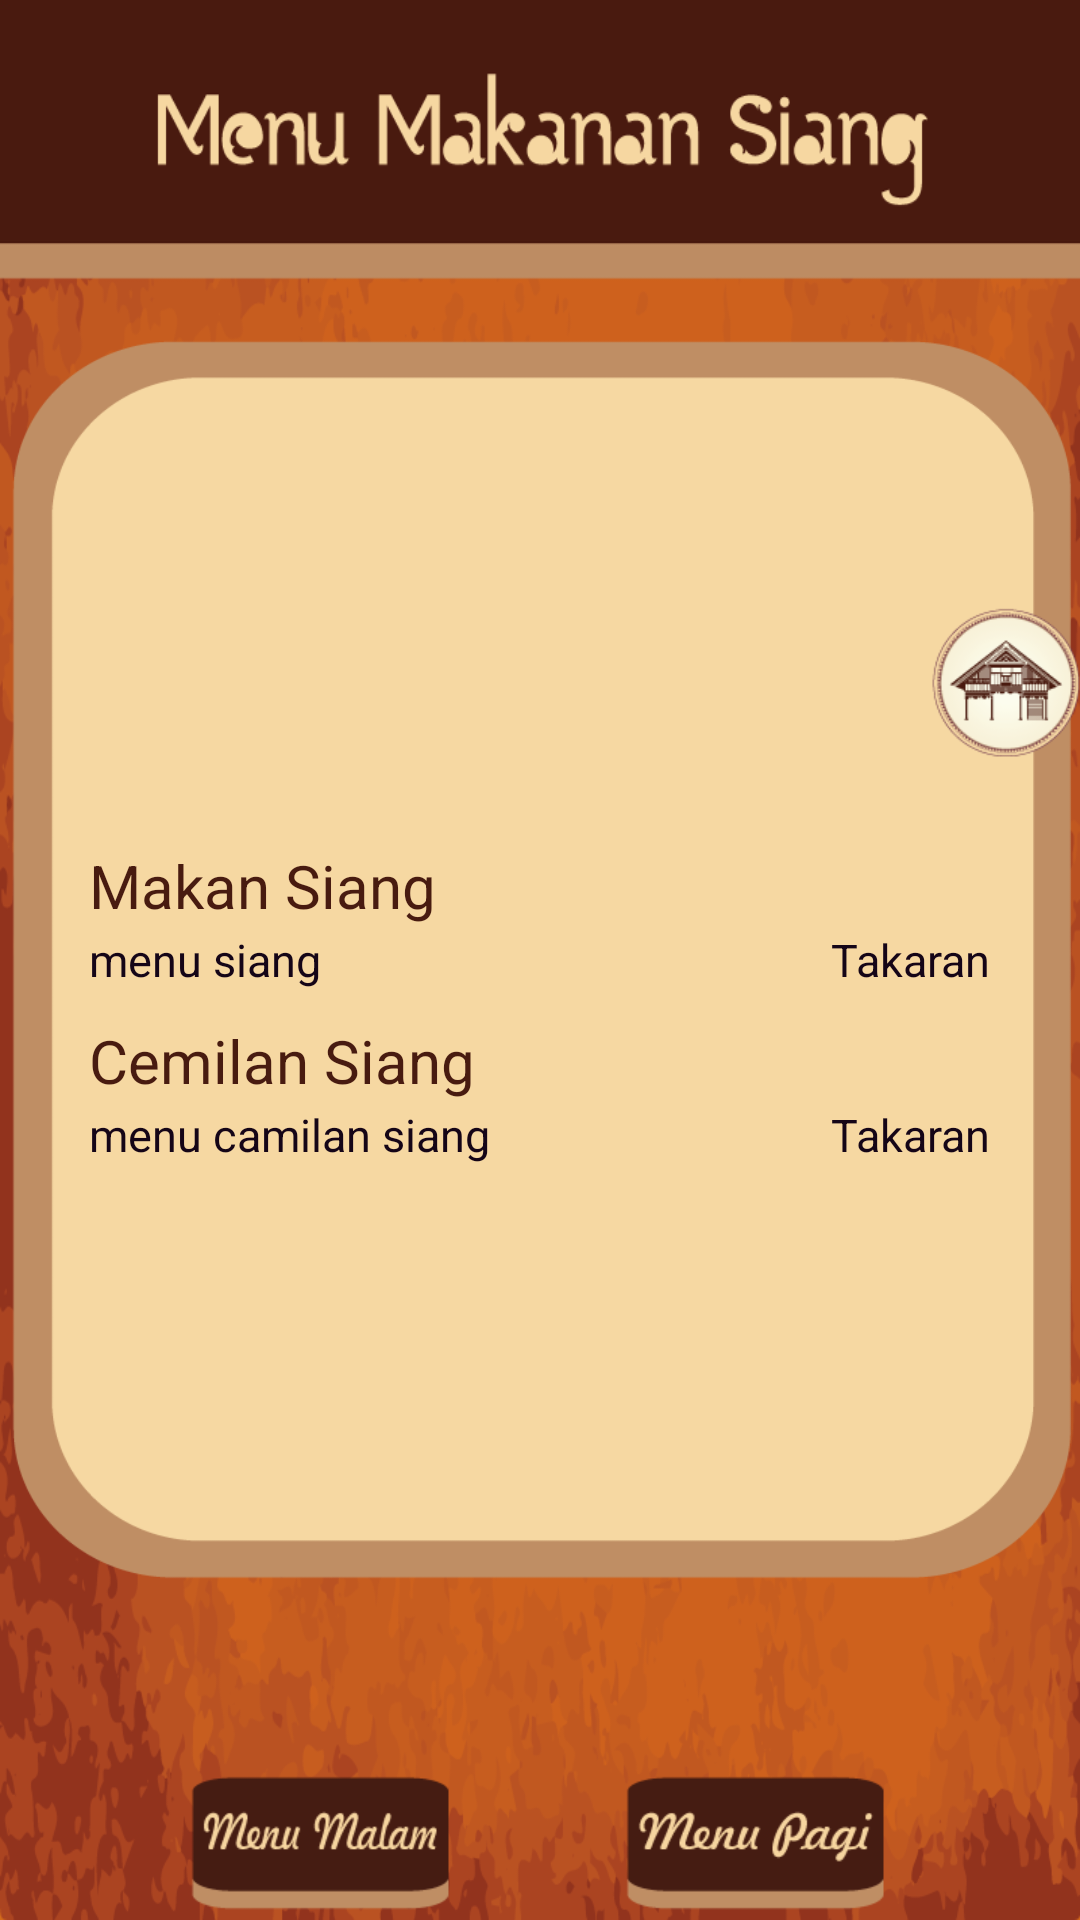

Named icons in this screenshot (1080×1920) and their bounding boxes, (x1, y1, x2, y2):
homebutton: (937, 612, 1076, 753)
